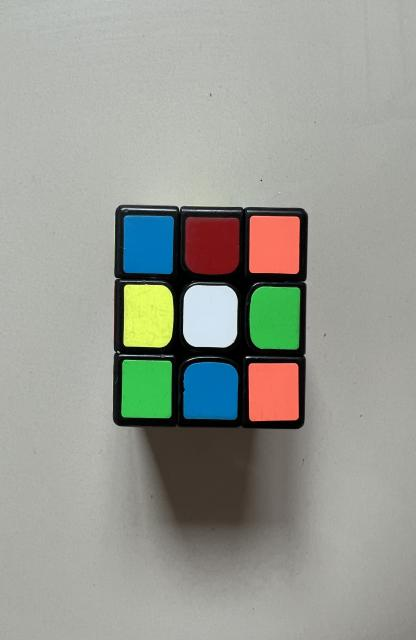Blue: (183, 362, 238, 420), (124, 215, 174, 274)
Green: (249, 286, 300, 350), (121, 360, 172, 419)
Orange: (248, 362, 299, 421), (249, 216, 300, 274)
Red: (184, 218, 239, 275)
White: (183, 285, 238, 348)
Yellow: (124, 284, 173, 348)
